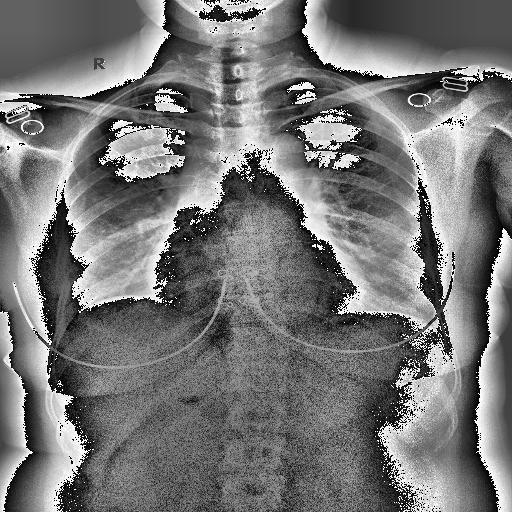0- Aortic enlargement: (263, 134, 307, 196)
3- Cardiomegaly: (142, 220, 364, 315), (146, 236, 372, 312), (132, 234, 364, 308)
6- Infiltration: (300, 161, 438, 323), (59, 176, 179, 333)
